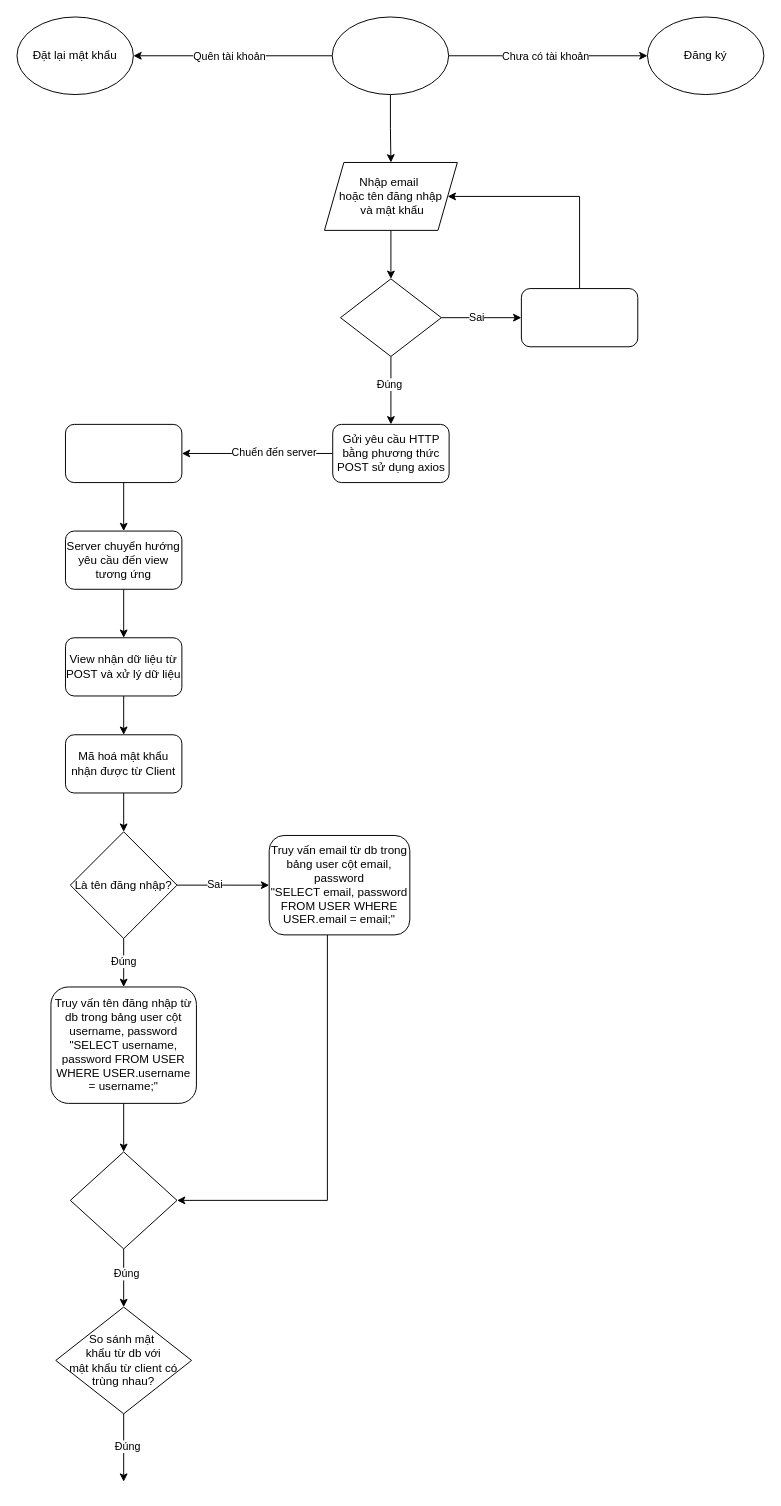
This 781x1506 diagram has some shape labels left out. The shapes that lost their labels are listed below. From the top down, each one's centre as x and y in pixels, then its label:
At point 390,55: "Đăng nhập".
At point 390,317: "Mật khẩu có mạnh".
At point 579,317: "Mật khẩu quá đơn giản".
At point 123,453: "Server nhận yêu cầu HTTP phương thức POST từ Client".
At point 123,1200: "Kết quả truy vấn trả về lớn hơn 1 dòng".
